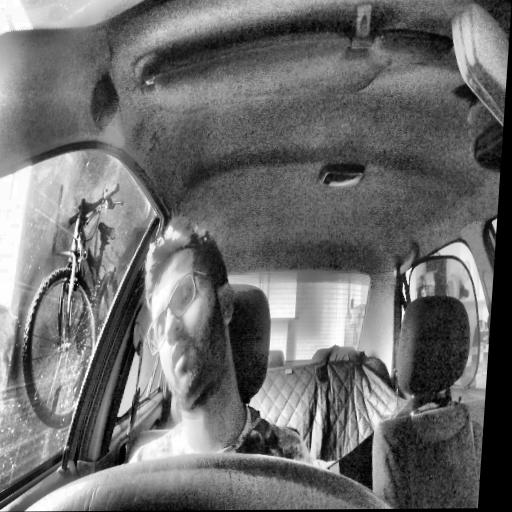drowsy: (134, 219, 240, 415)
